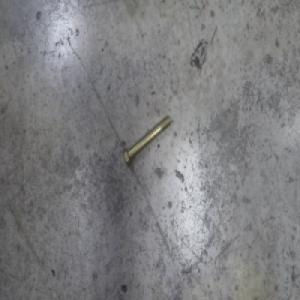Bolt: (121, 113, 171, 170)
